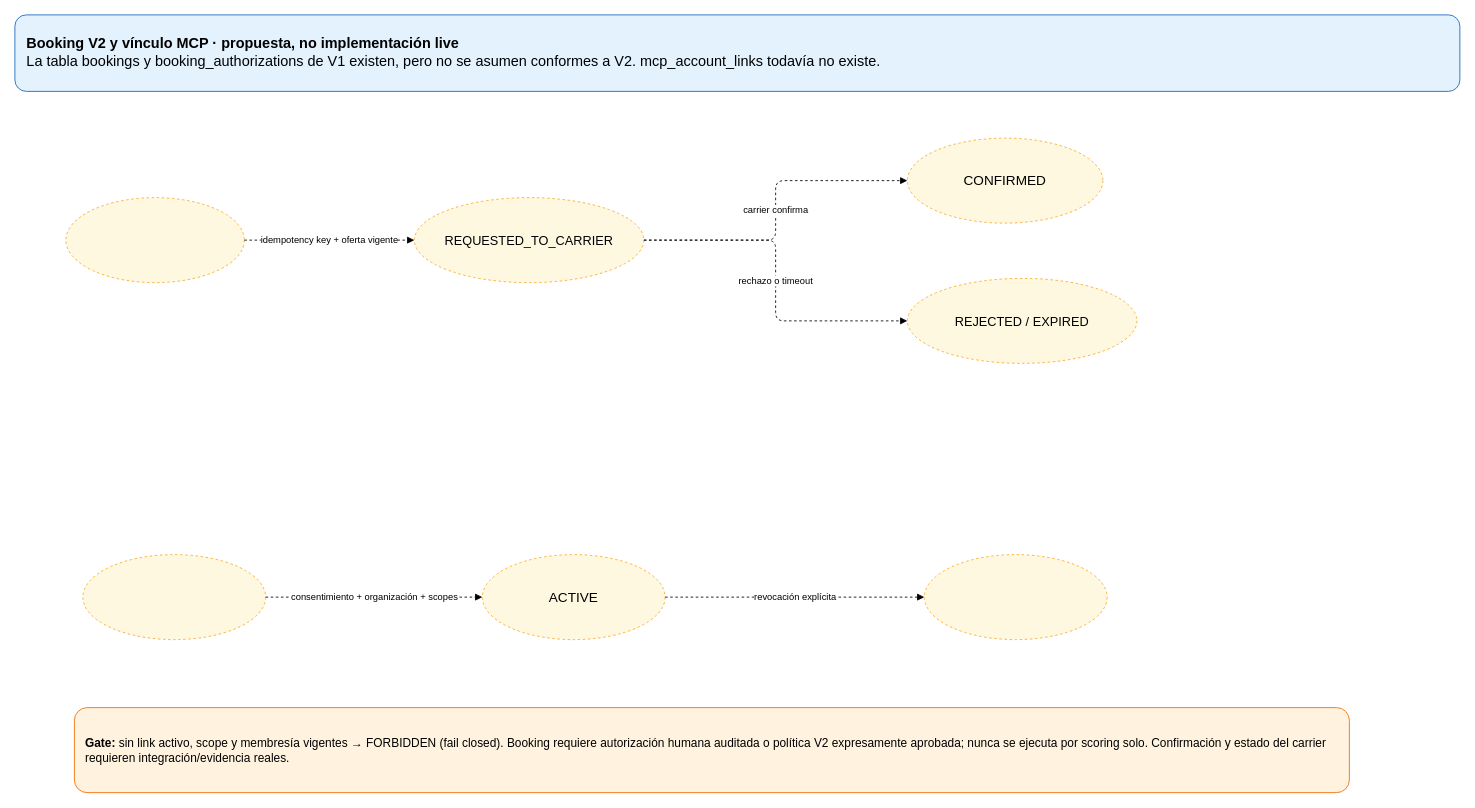
Image size: 1475x808. Some labels were removed from this diagram. Here are the shapes that lost their labels. From the top down, the centre of each, then its label:
pixel 154 240: AUTHORIZED
pixel 174 597: UNLINKED
pixel 1015 597: REVOKED
